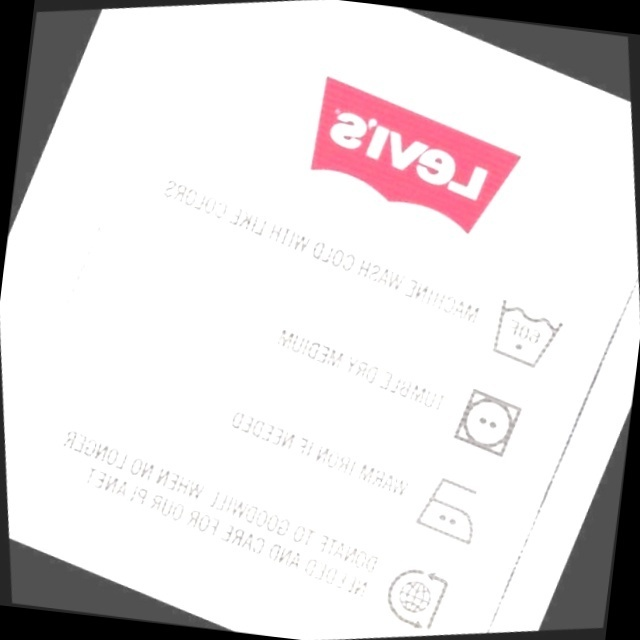30C: (477, 282, 573, 381)
iron_medium: (399, 460, 497, 558)
tumble_dry_medium: (438, 374, 533, 469)
